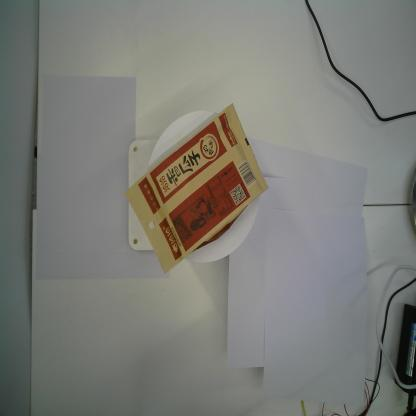Dried Food: (123, 101, 270, 277)
